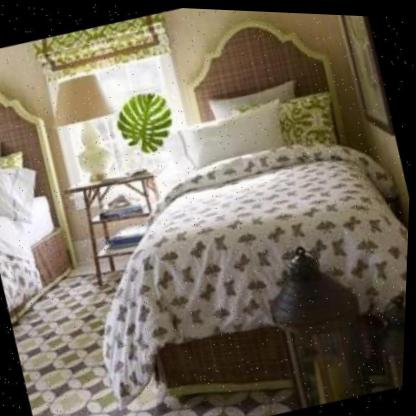Bed: (25, 1, 416, 416), (0, 64, 106, 350)
